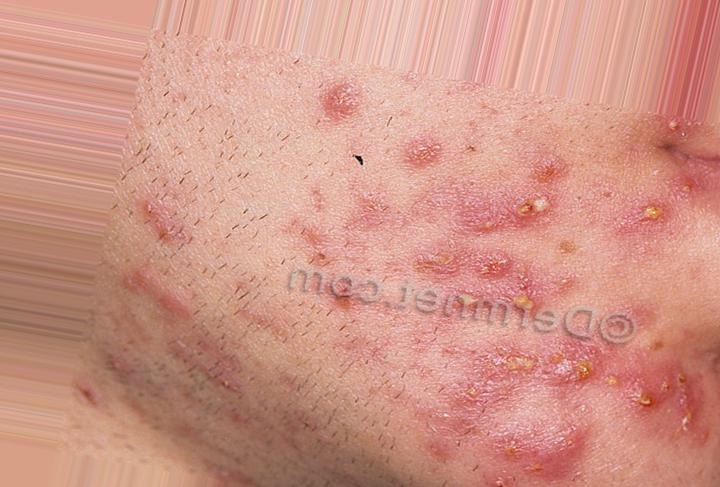Acne: (121, 84, 712, 457)
